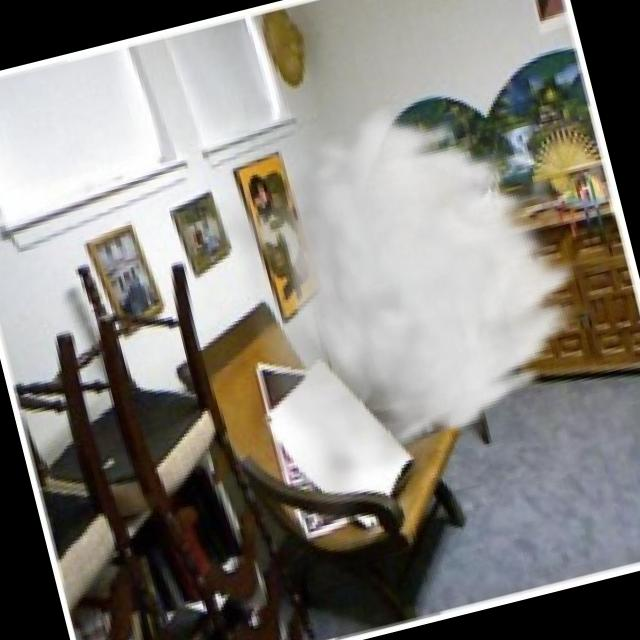Smoke: (181, 64, 633, 550)
